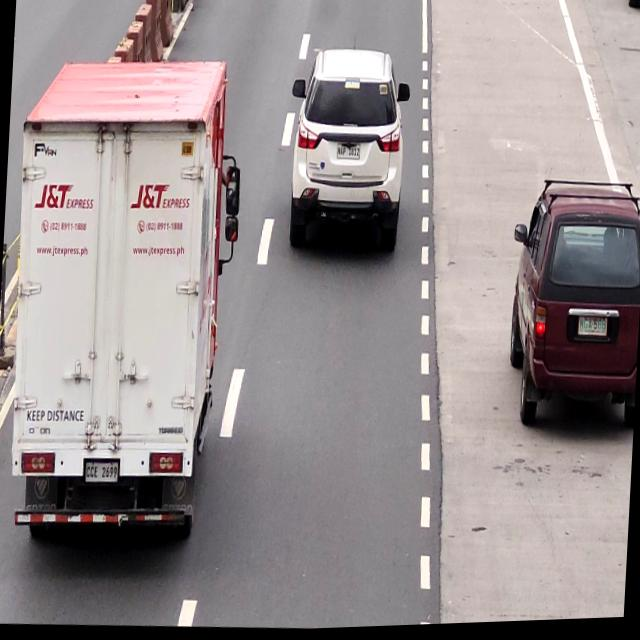Car: (502, 180, 640, 437), (286, 46, 411, 260)
License-Plate: (83, 460, 119, 486), (576, 316, 608, 342), (336, 142, 362, 164)
Truck: (5, 56, 236, 542)
